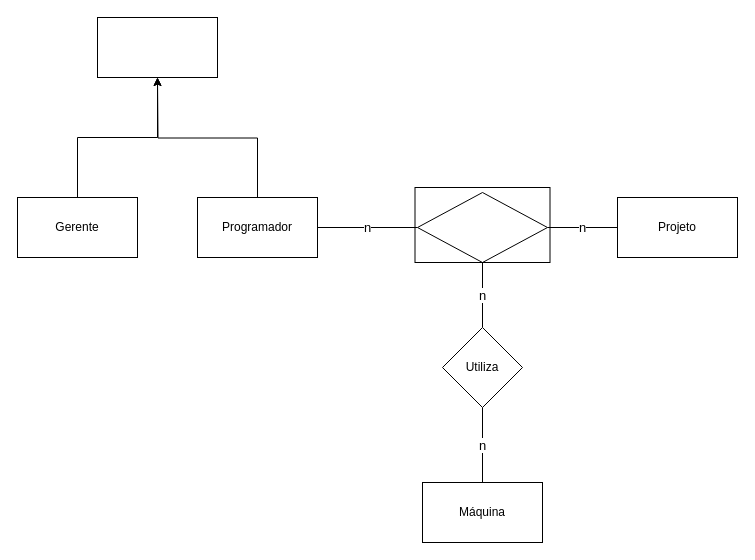
Some shapes in this 755 by 560 pixel diagram are drawn without their labels. Here are the shapes that lost their labels. From the top down, the box of each, then its label:
(96, 16, 218, 78): Funcionário
(416, 192, 548, 262): Trabalha
